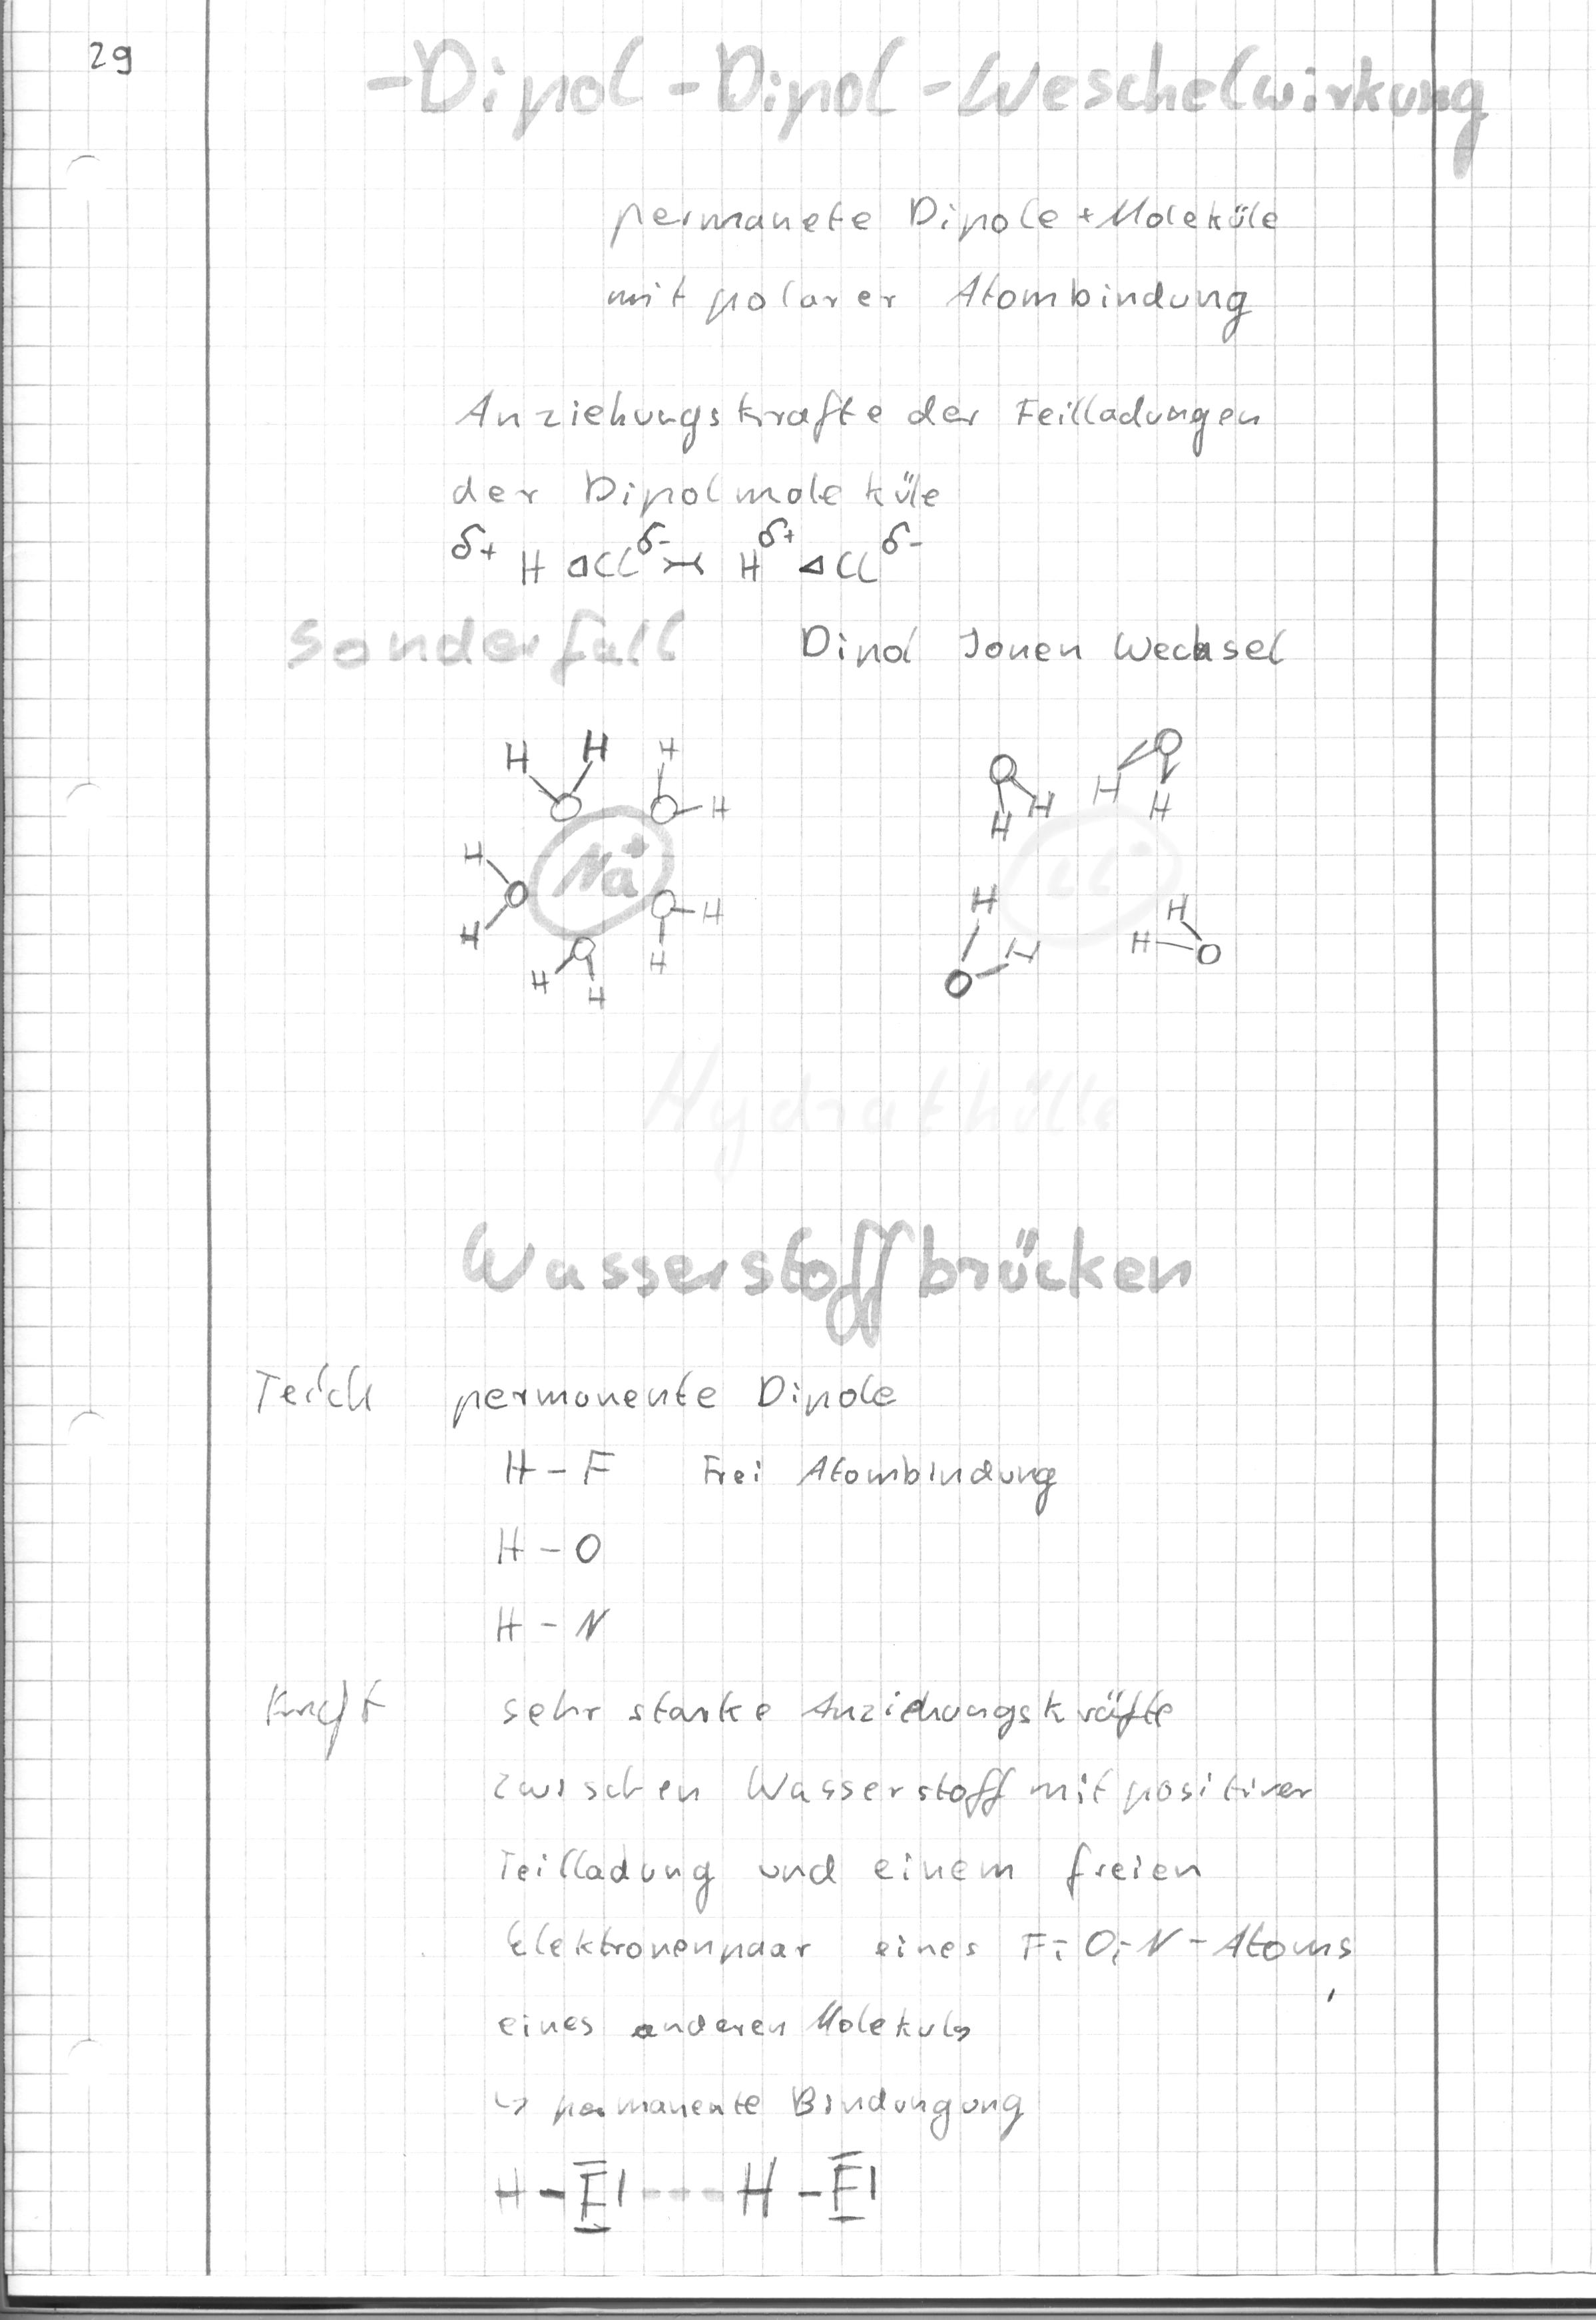word: (477, 1679, 1364, 1972), (429, 380, 1266, 596), (590, 184, 1285, 353), (437, 1352, 1069, 1522), (484, 1991, 1037, 2153), (789, 599, 1304, 711), (479, 1510, 617, 1653), (250, 1669, 396, 1777), (236, 1349, 398, 1435)
